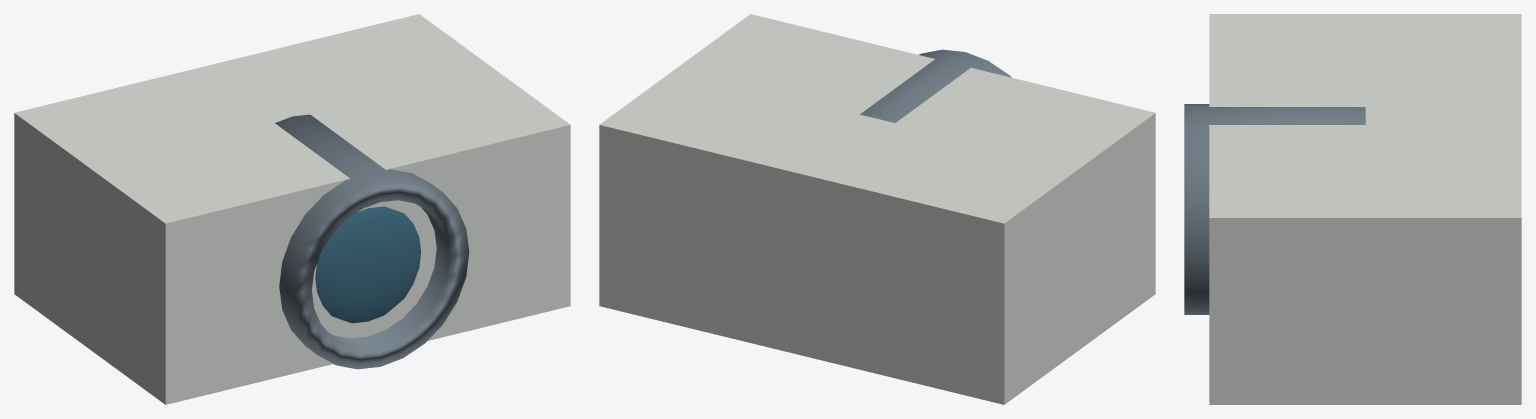
File: perseverance_science.meda_sensors.glb
The picture shows the model from 3 angles, left to right: view 1: azimuth 30°, elevation 25°; view 2: azimuth 150°, elevation 25°; view 3: azimuth 270°, elevation 25°; orthographic projection. The views are drawn at different scales.
Visible parts, largest first — view 1: perseverance_science.meda_sensors.mesh_Pale_thermal_blanket, perseverance_science.meda_sensors.radiometer.mesh_Machined_s, perseverance_science.meda_sensors.radiometer.lens.mesh_Coate; view 2: perseverance_science.meda_sensors.mesh_Pale_thermal_blanket, perseverance_science.meda_sensors.radiometer.mesh_Machined_s; view 3: perseverance_science.meda_sensors.mesh_Pale_thermal_blanket, perseverance_science.meda_sensors.radiometer.mesh_Machined_s.
Part boxes in pixels (<box>): perseverance_science.meda_sensors.mesh_Pale_thermal_blanket: <box>14,14,570,404</box>; perseverance_science.meda_sensors.radiometer.mesh_Machined_s: <box>275,114,469,369</box>; perseverance_science.meda_sensors.radiometer.lens.mesh_Coate: <box>315,206,421,323</box>; perseverance_science.meda_sensors.mesh_Pale_thermal_blanket: <box>599,14,1155,404</box>; perseverance_science.meda_sensors.radiometer.mesh_Machined_s: <box>860,49,1011,122</box>; perseverance_science.meda_sensors.mesh_Pale_thermal_blanket: <box>1209,14,1521,404</box>; perseverance_science.meda_sensors.radiometer.mesh_Machined_s: <box>1184,104,1365,314</box>.
Size of the model in its own units: 0.173 by 0.076 by 0.121.
